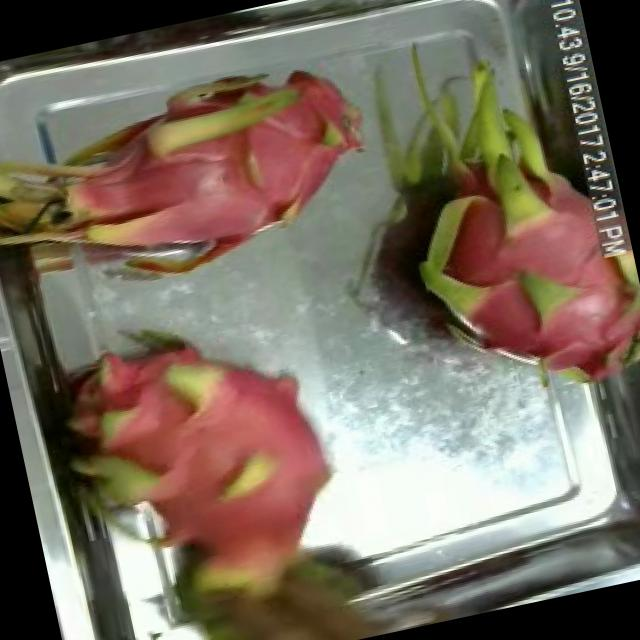Fruit: (434, 259, 572, 387)
